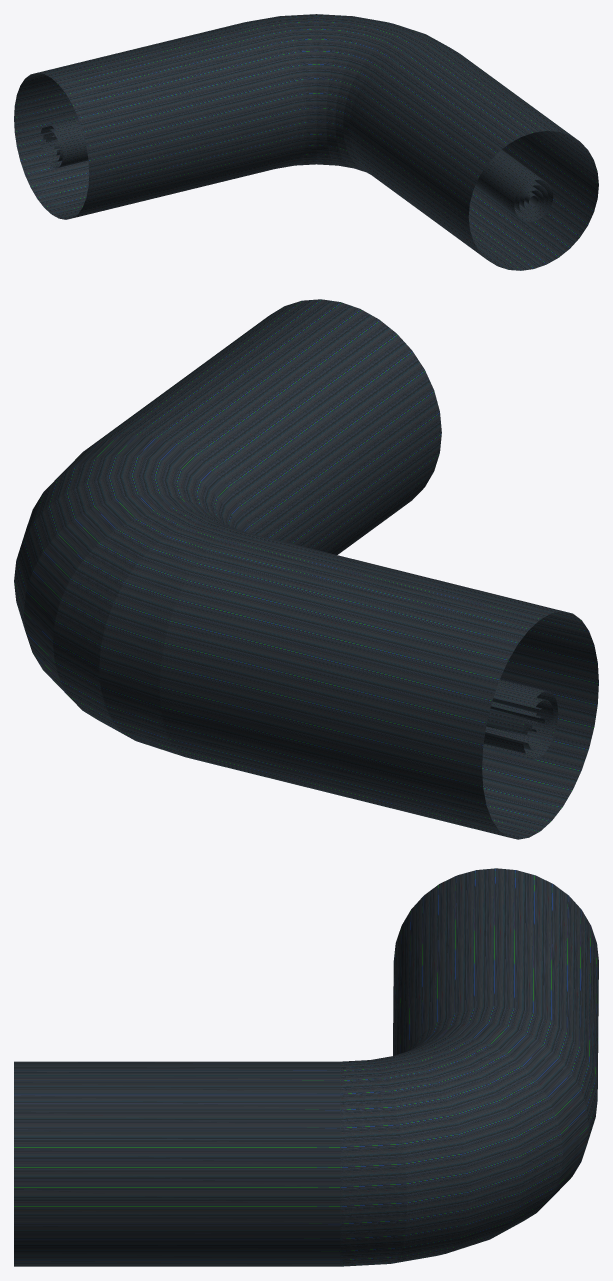
The model's file is Medium Dark Energy Pipe window 2.obj.
3 renders of one model, top to bottom at view 1: azimuth 30°, elevation 25°; view 2: azimuth 150°, elevation 25°; view 3: azimuth 270°, elevation 25°, orthographic. The views are drawn at different scales.
Visible parts, largest first — view 1: Cylinder.001_Cylinder.001_Cylinder.001_Cylinder.004; view 2: Cylinder.001_Cylinder.001_Cylinder.001_Cylinder.004; view 3: Cylinder.001_Cylinder.001_Cylinder.001_Cylinder.004.
Boxes of the visible parts, x1,y1,x2,y2 form: Cylinder.001_Cylinder.001_Cylinder.001_Cylinder.004: [14, 14, 598, 270]; Cylinder.001_Cylinder.001_Cylinder.001_Cylinder.004: [14, 299, 598, 839]; Cylinder.001_Cylinder.001_Cylinder.001_Cylinder.004: [14, 868, 598, 1266].
Size of the model in its own units: 1.82 by 0.6418 by 1.82.
